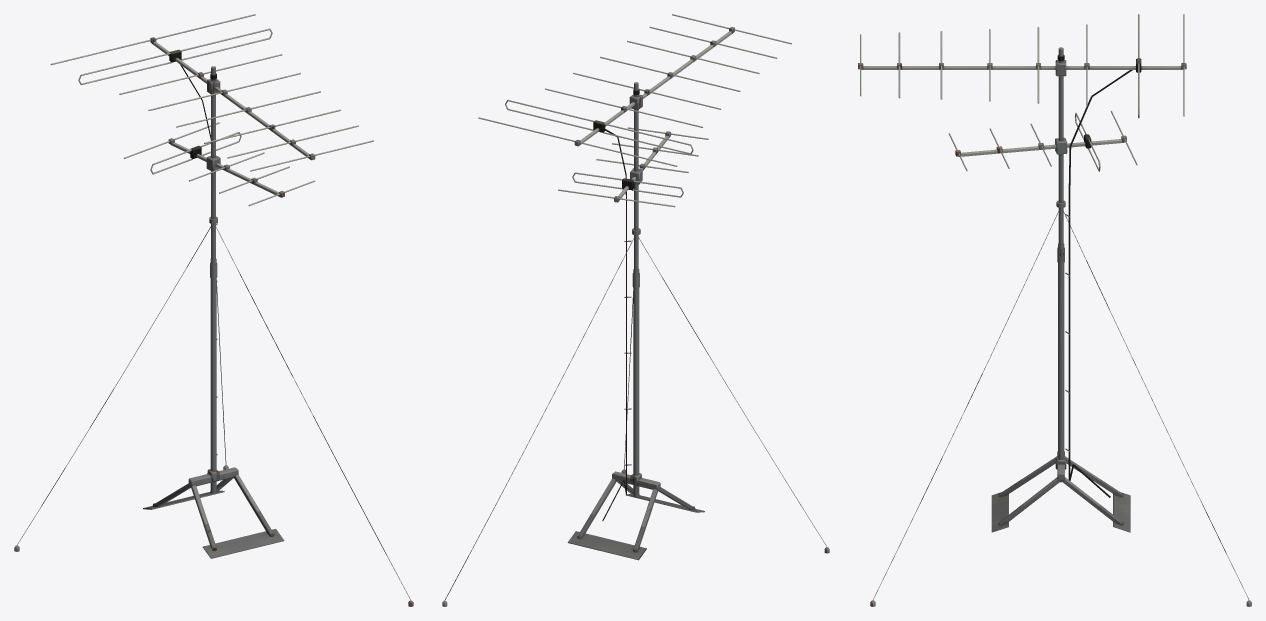
The model's file is tv_antenna.glb.
3 views of the same model, side by side, from view 1: azimuth 30°, elevation 25°; view 2: azimuth 150°, elevation 25°; view 3: azimuth 270°, elevation 25° (orthographic). The views are drawn at different scales.
Parts seen in each view (by area): view 1: tv_antenna; view 2: tv_antenna; view 3: tv_antenna.
Part boxes in pixels (x1,y1,x2,y2): tv_antenna: (14, 14, 413, 606); tv_antenna: (442, 14, 829, 606); tv_antenna: (858, 14, 1251, 606).
Bounding box in the file's own units: 2.34 × 3.62 × 2.56.
1 material, 1 textured.
